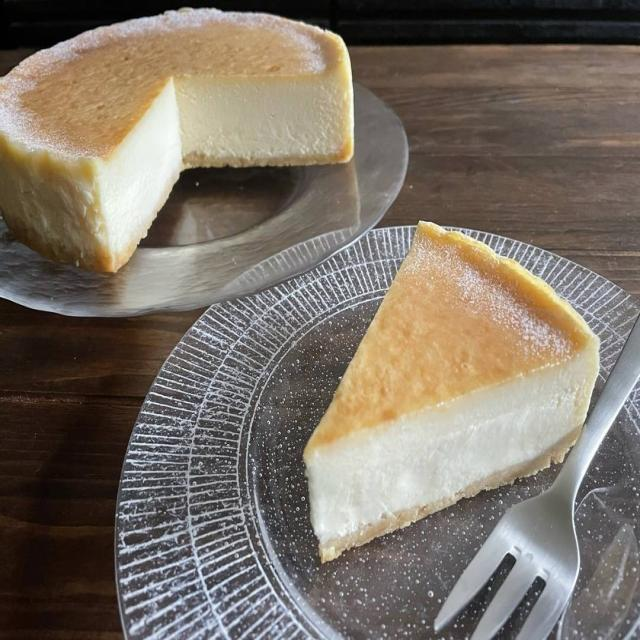cheesecake: (302, 217, 600, 564), (0, 6, 355, 274)
